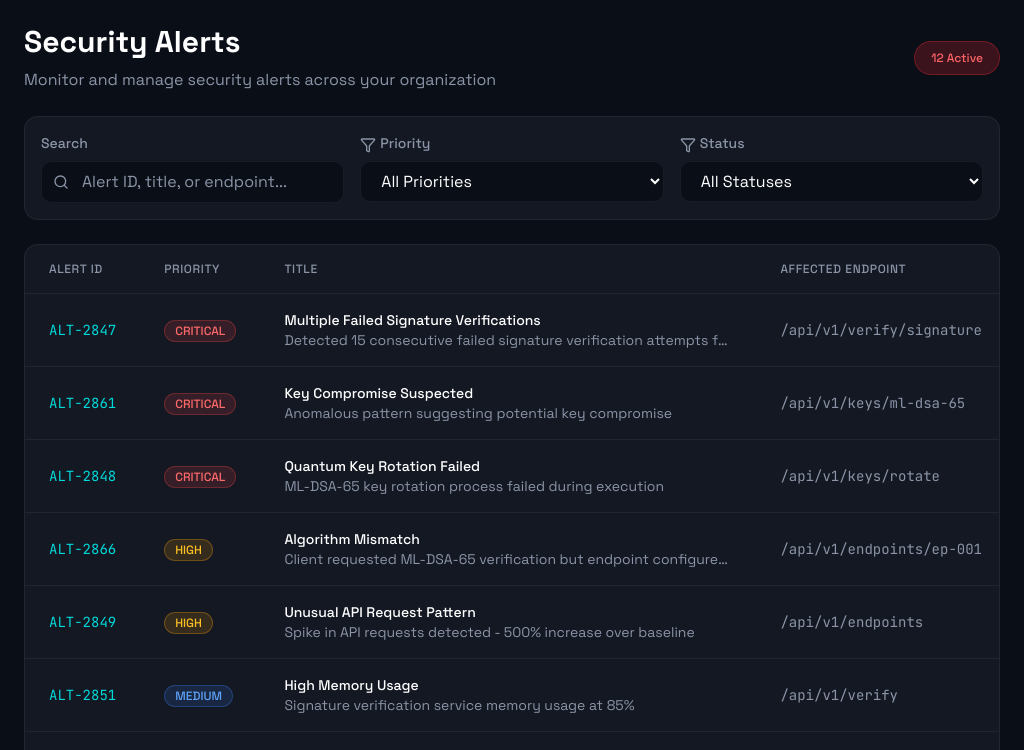
Test: AlertsSection › should display "No alerts found" when filters return no results
The width and height of the screenshot is (1024, 750).
Expected: the text "ALT-2847" is shown, [49,321,116,339]
# Search for non-existent alert
Type "NONEXISTENT-ALERT-12345" into the field with placeholder "Alert ID, title, or endpoint...". click: (193, 182)
box: [41,161,344,203]
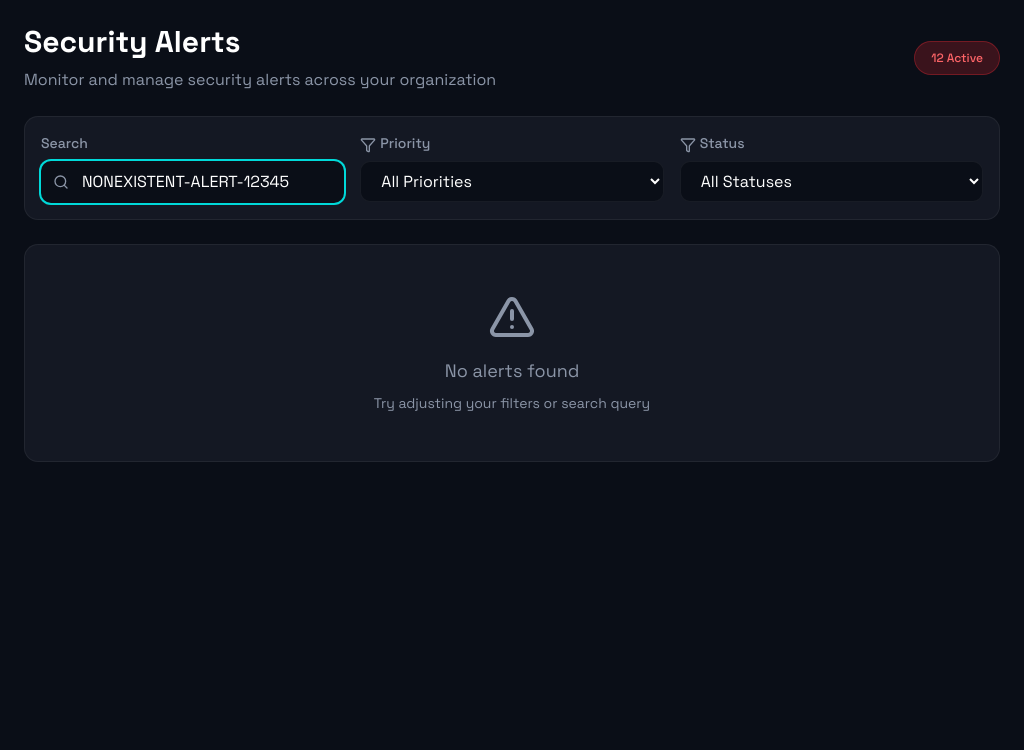
Expected: the text "No alerts found" is shown, [445,357,579,385]
Expected: the text "Try adjusting your filters or search query" is shown, [374,393,650,413]
